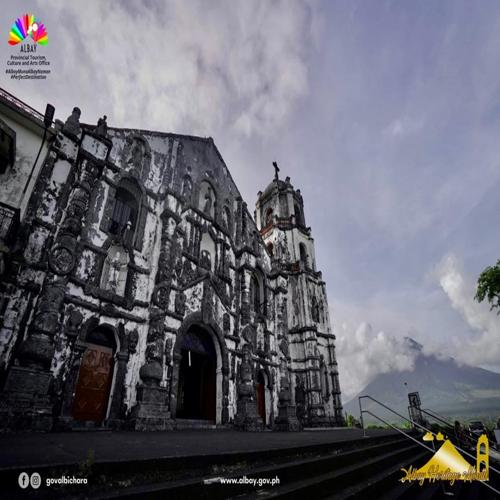Daraga Church: (11, 35, 351, 435)
